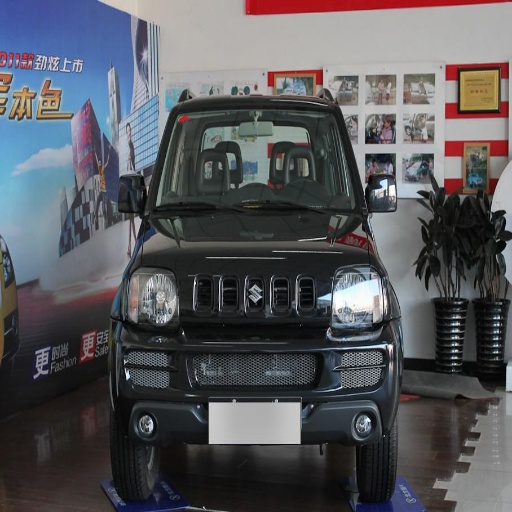front_bumper: (112, 260, 395, 439)
front_right_light: (116, 265, 178, 330)
hood: (140, 214, 369, 278)
